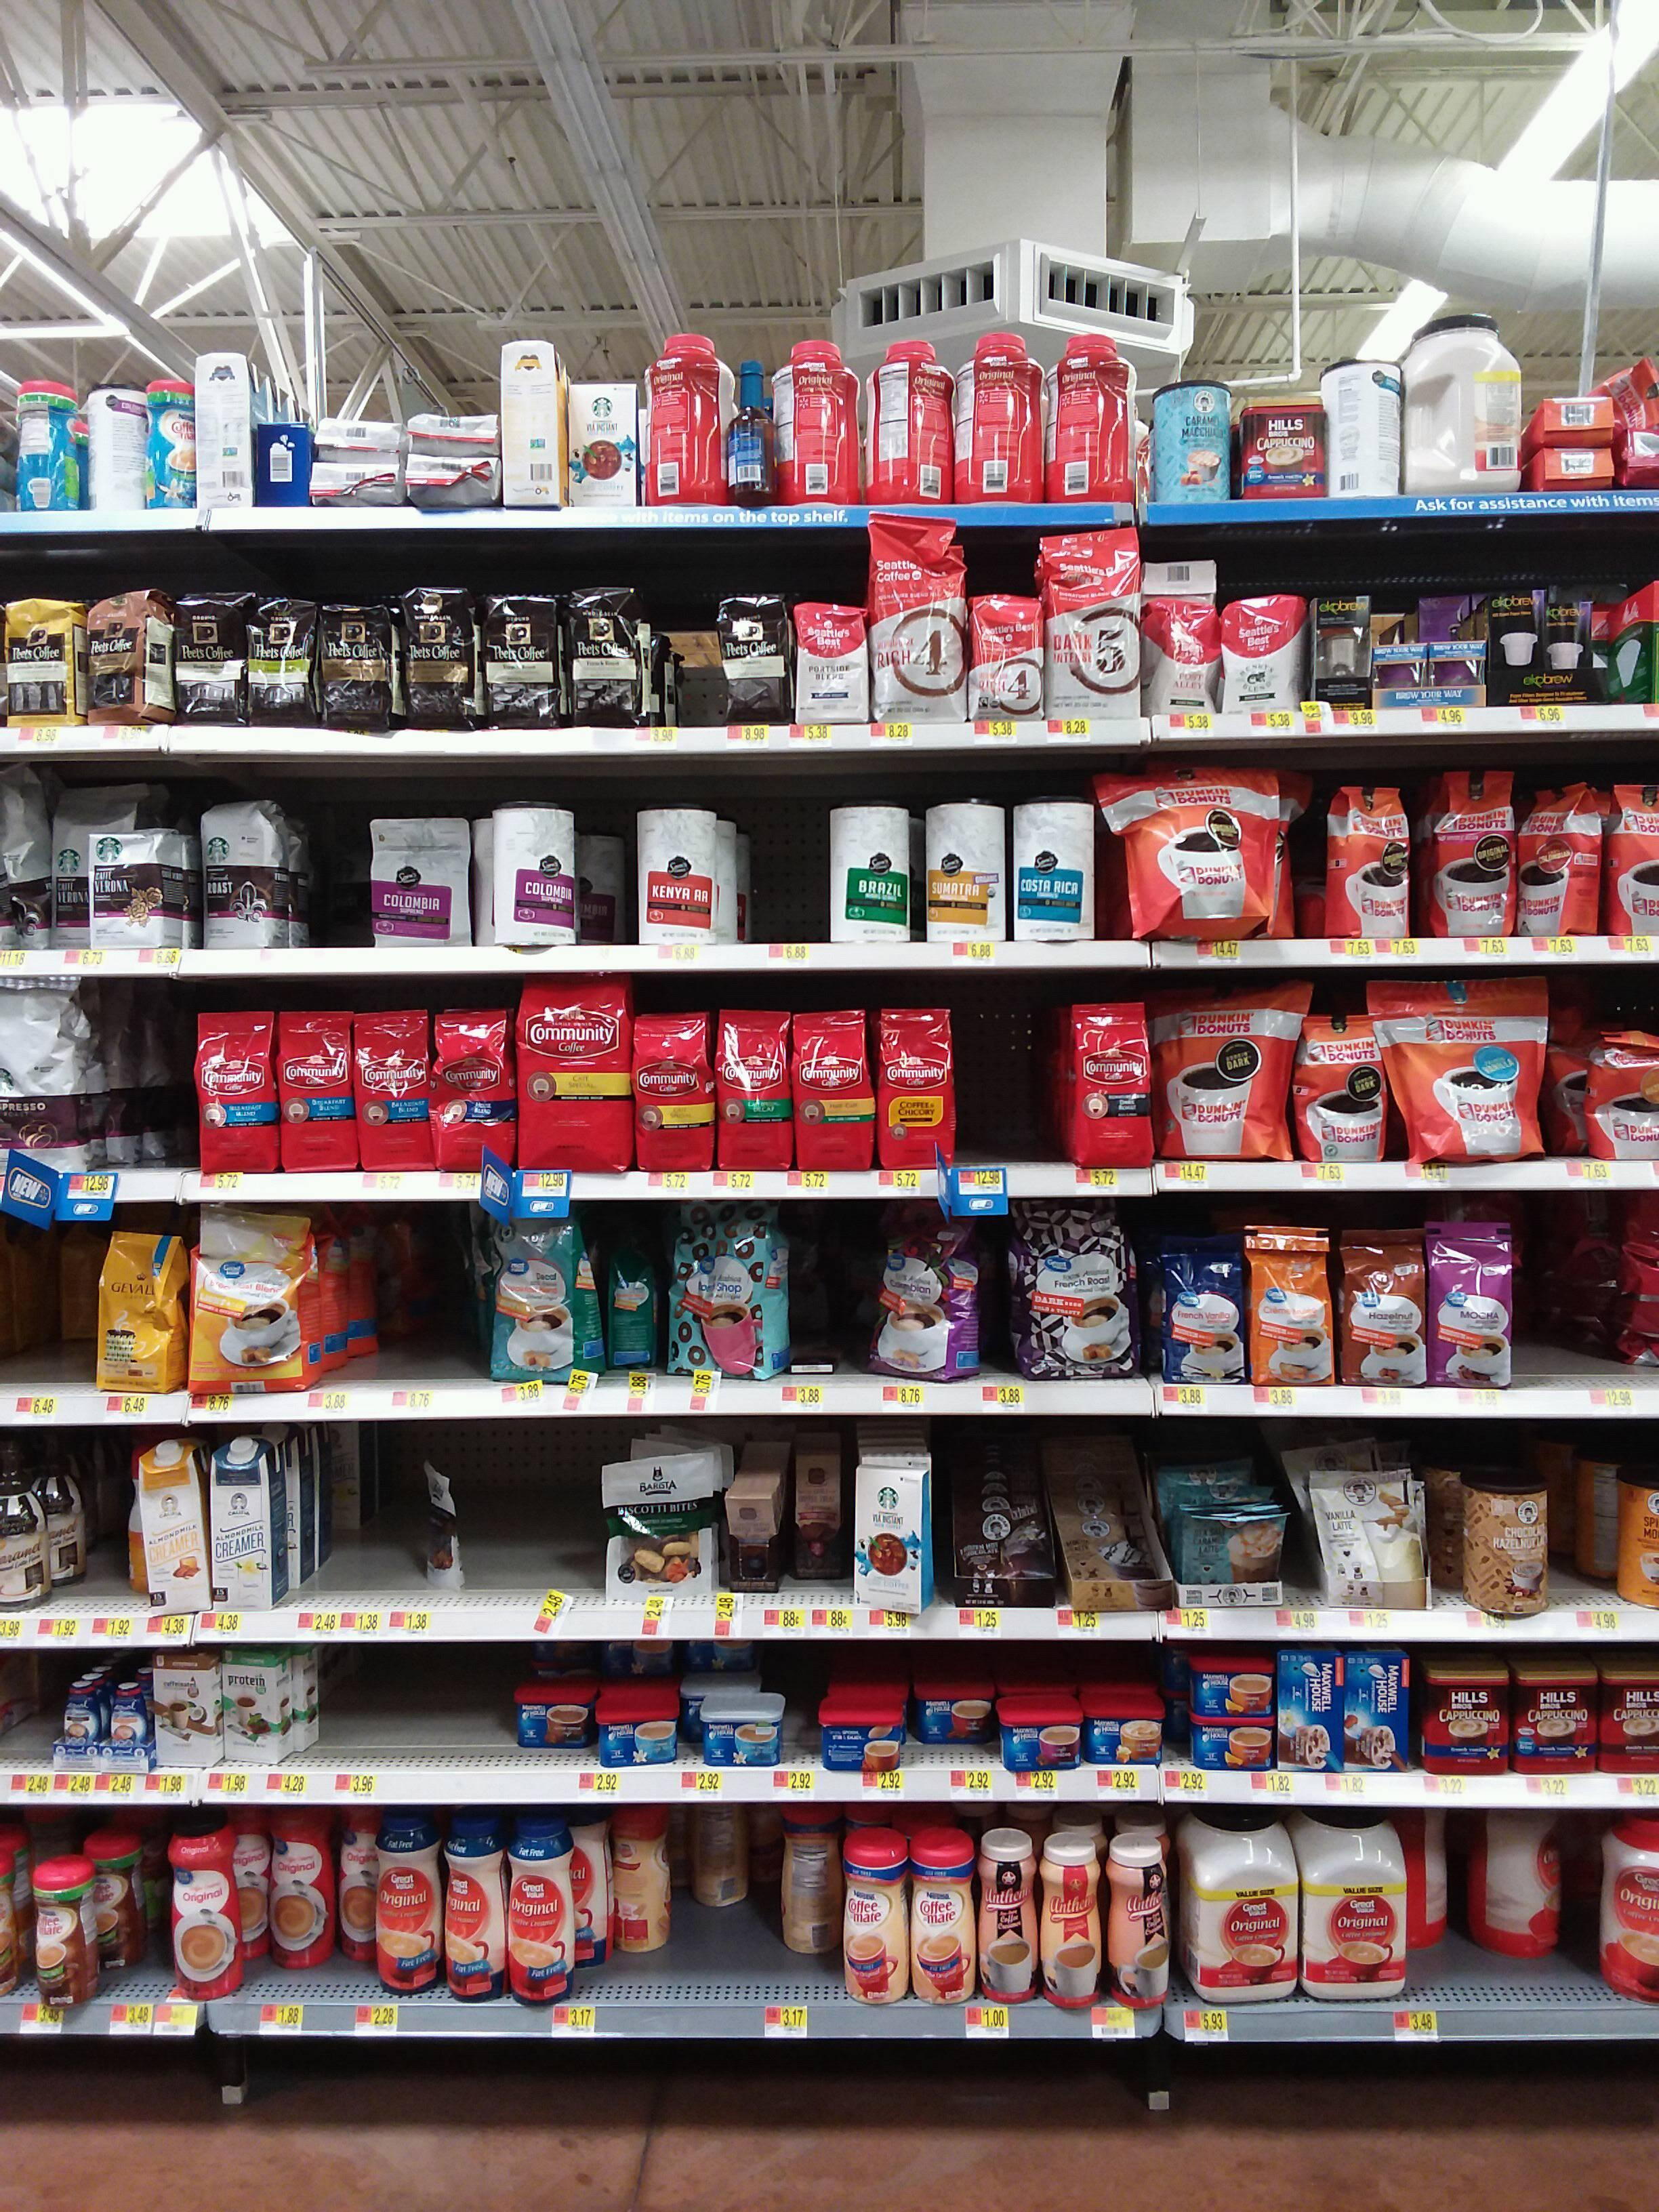empty: (484, 1442, 589, 1581), (333, 1656, 493, 1745), (969, 1008, 1039, 1158), (756, 808, 821, 939), (310, 787, 362, 941)
misalignment: (418, 1467, 467, 1592), (789, 1348, 843, 1379)
